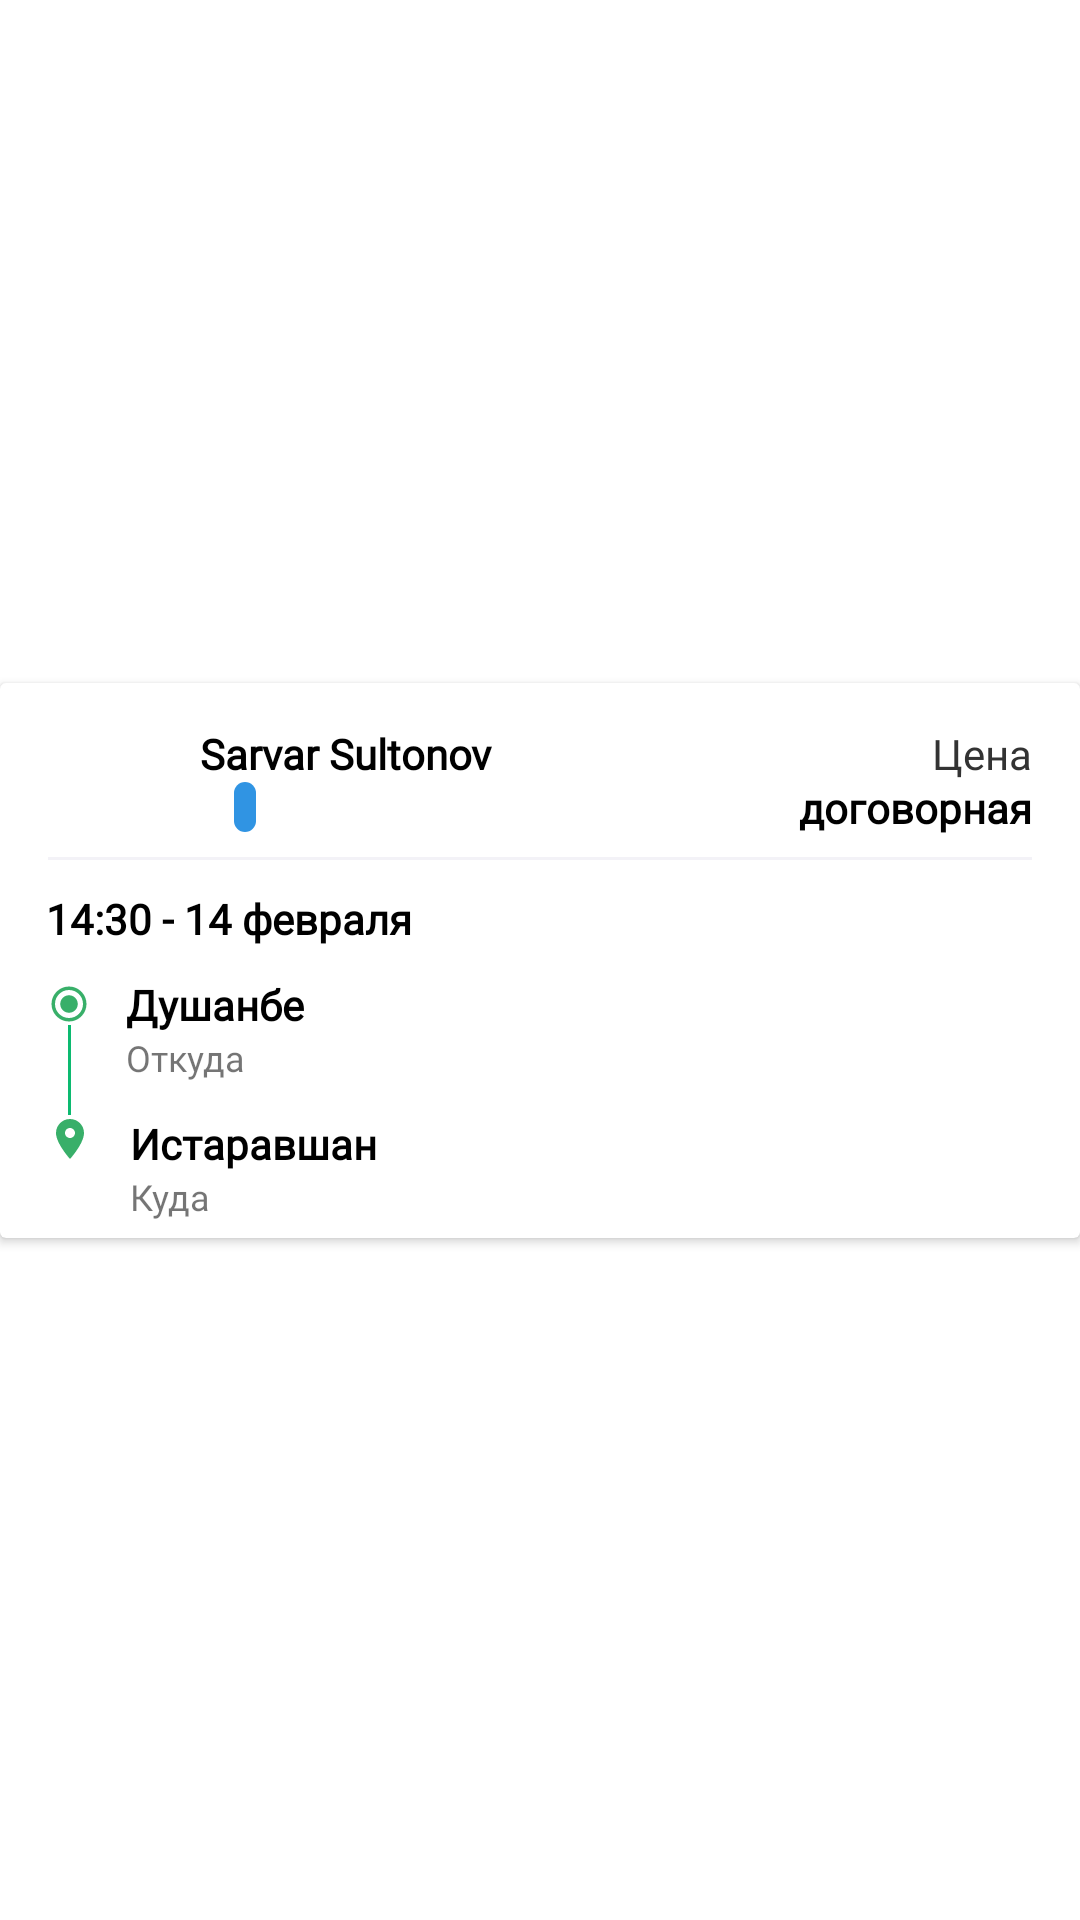

Named icons in this screenshot (1080*1920) and their centers, (x,y):
location on: (70,1139)
radio checked: (69,1004)
